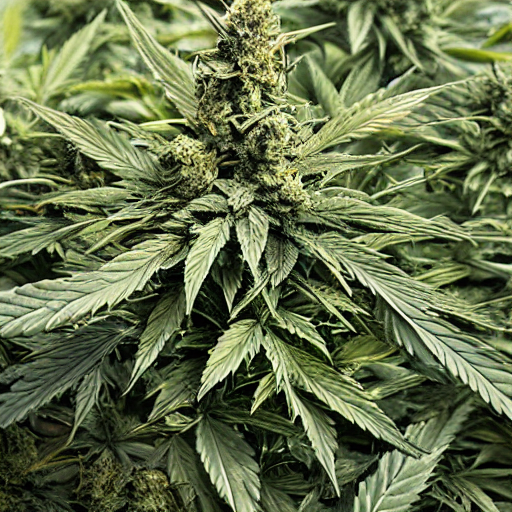Marijuana Joint: (109, 1, 371, 306)
